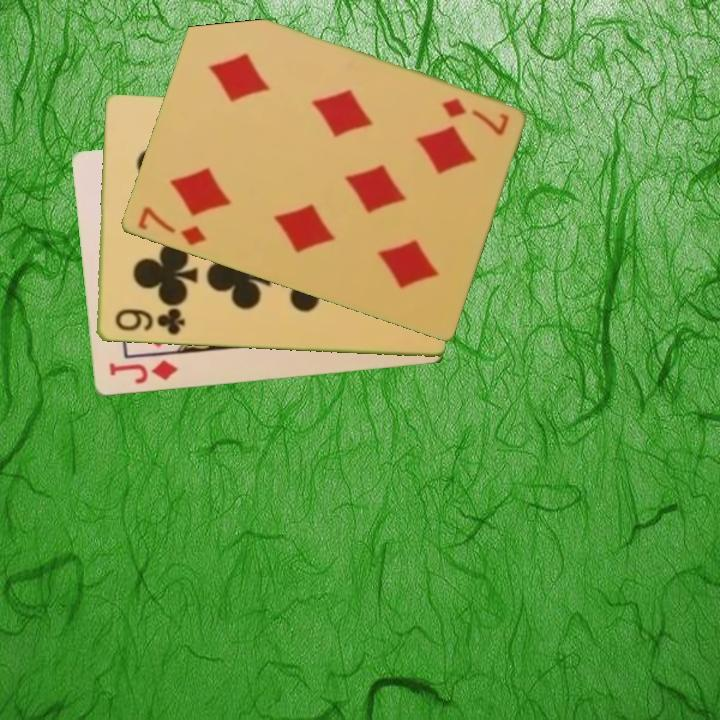7d: (134, 203, 209, 249), (437, 94, 511, 139)
9c: (111, 306, 187, 338)
Jd: (105, 356, 181, 388)
